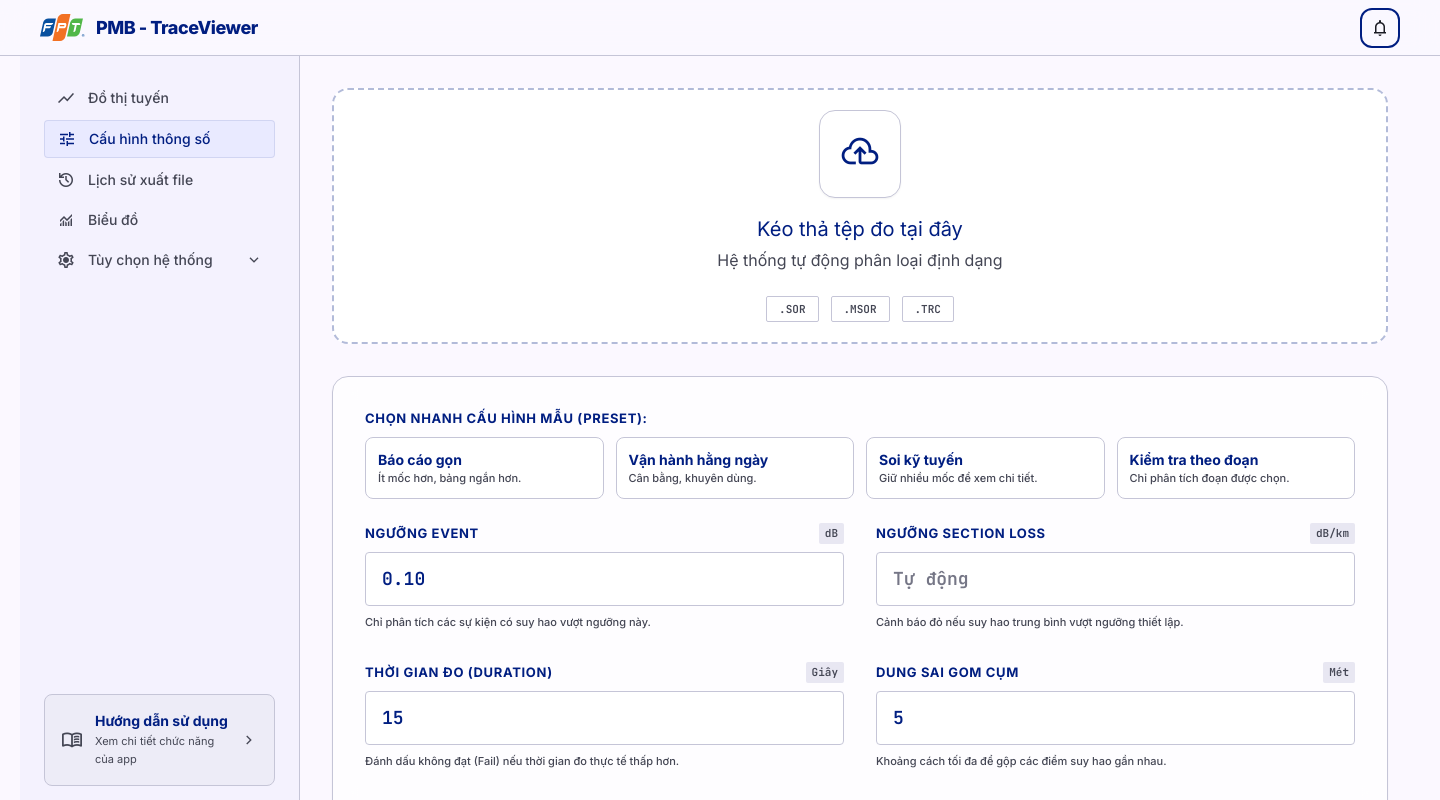
moves parameter modes into system options and keeps basic fields in advanced mode
Expected: the button "Thông số cơ bản" is not shown
Click the button "Tùy chọn hệ thống" at coordinates (160, 260), box top-left (44, 242), bottom-right (275, 278)
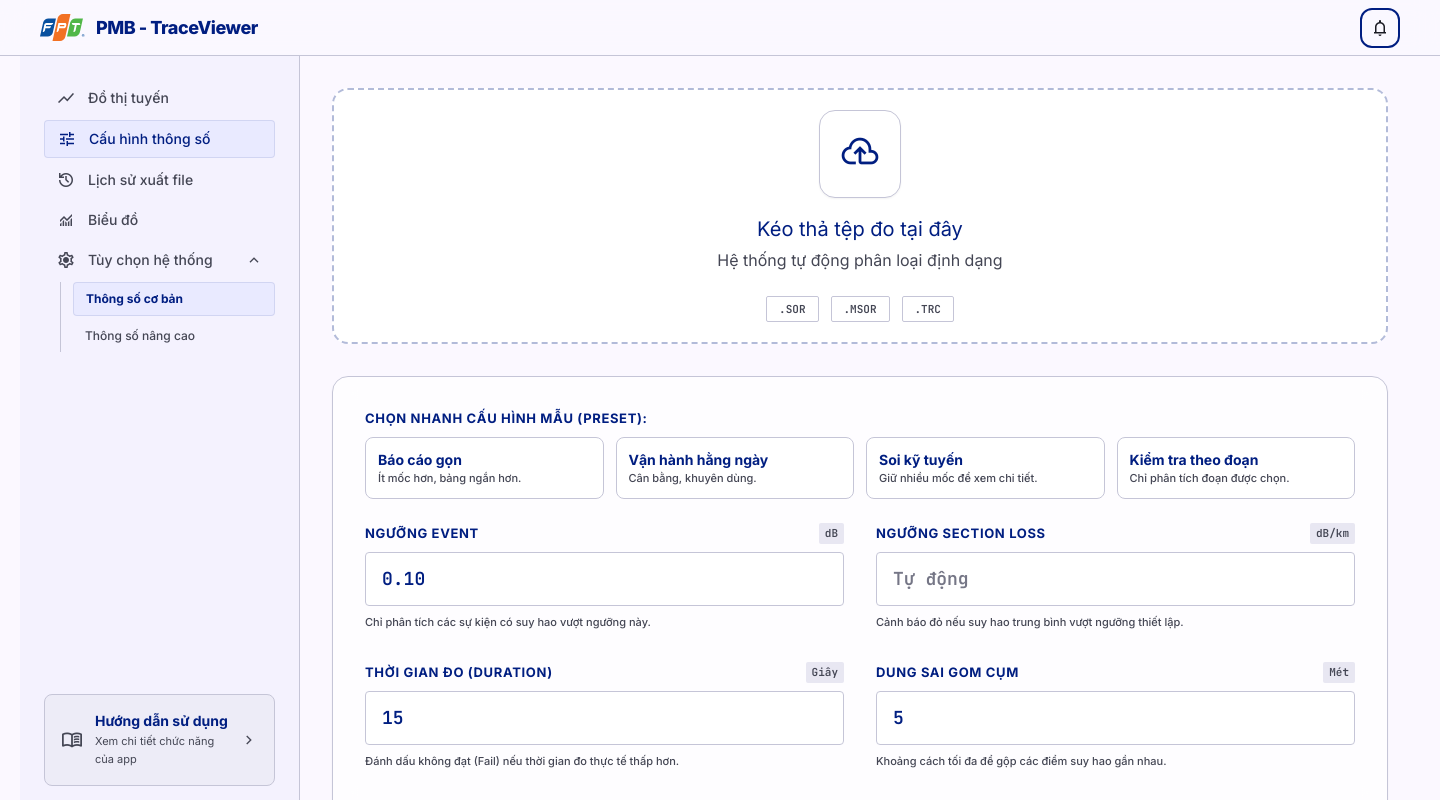
Click the button "Thông số nâng cao" at coordinates (174, 336), box top-left (73, 320), bottom-right (275, 352)
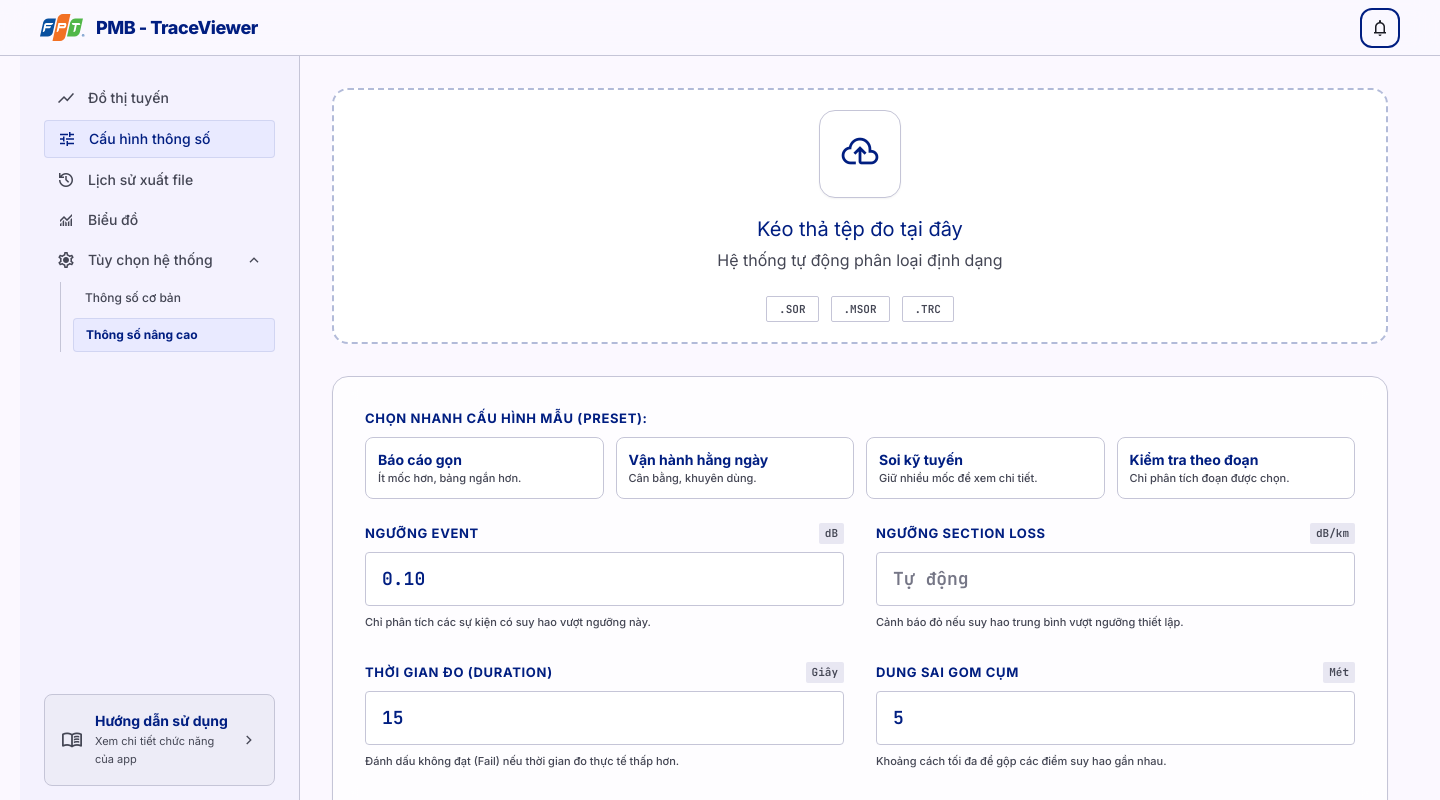
Expected: the text "Ngưỡng Event" is shown, top-left (365, 524), bottom-right (479, 544)
Expected: the text "Ngưỡng Section Loss" is shown, top-left (876, 524), bottom-right (1046, 544)
Click the button "Kiểm tra theo đoạn Chỉ phân tích đoạn được chọn." at coordinates (1236, 468), box top-left (1116, 436), bottom-right (1355, 499)
(page scrolled)
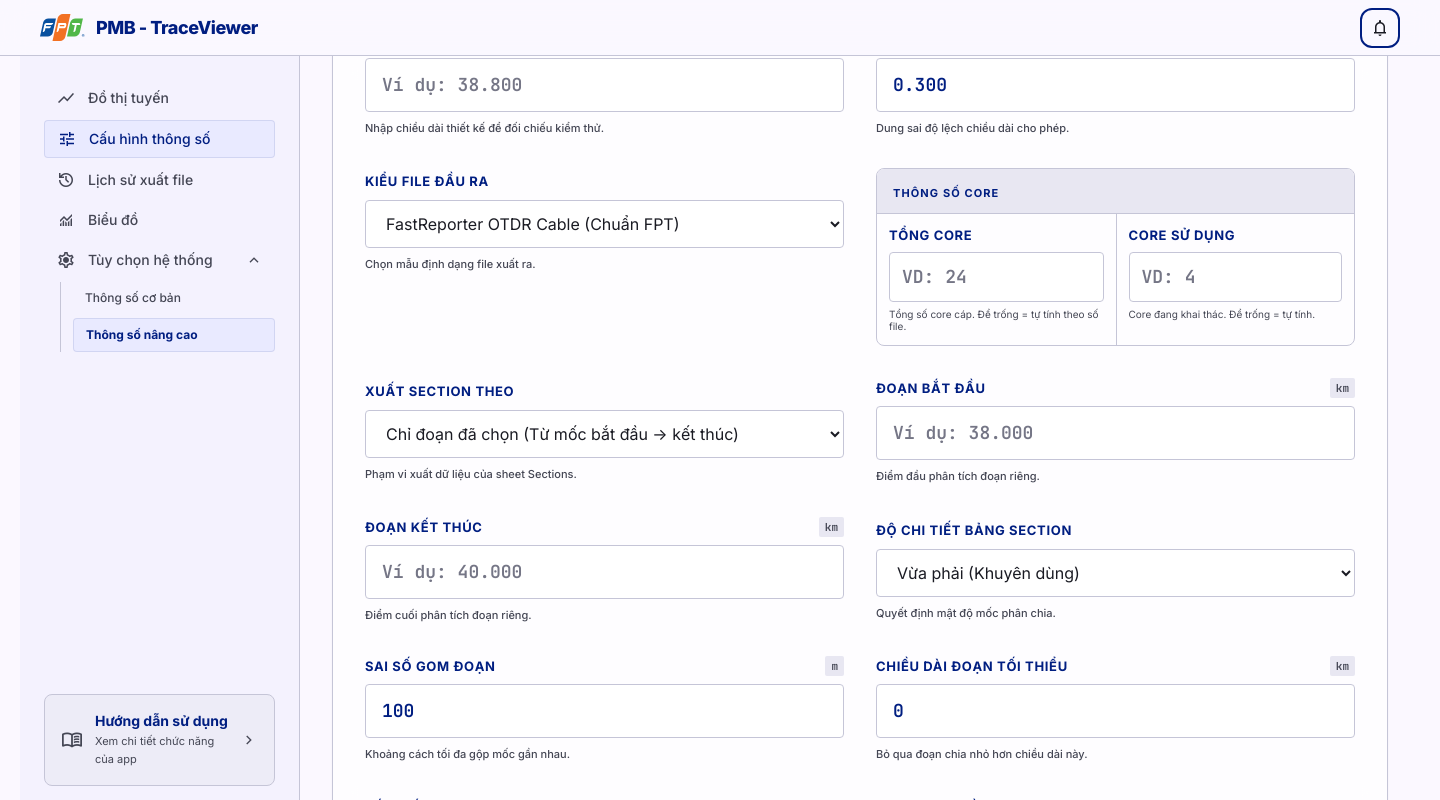
Expected: the dropdown below "Xuất section theo" shows "Chỉ đoạn đã chọn (Từ mốc bắt đầu -> kết thúc)", top-left (365, 410), bottom-right (844, 458)
Type "8.5" into the number field with placeholder "Ví dụ: 38.000" at coordinates (1116, 433), box top-left (876, 406), bottom-right (1355, 460)
Type "9.5" into the number field with placeholder "Ví dụ: 40.000" at coordinates (604, 572), box top-left (365, 545), bottom-right (844, 599)
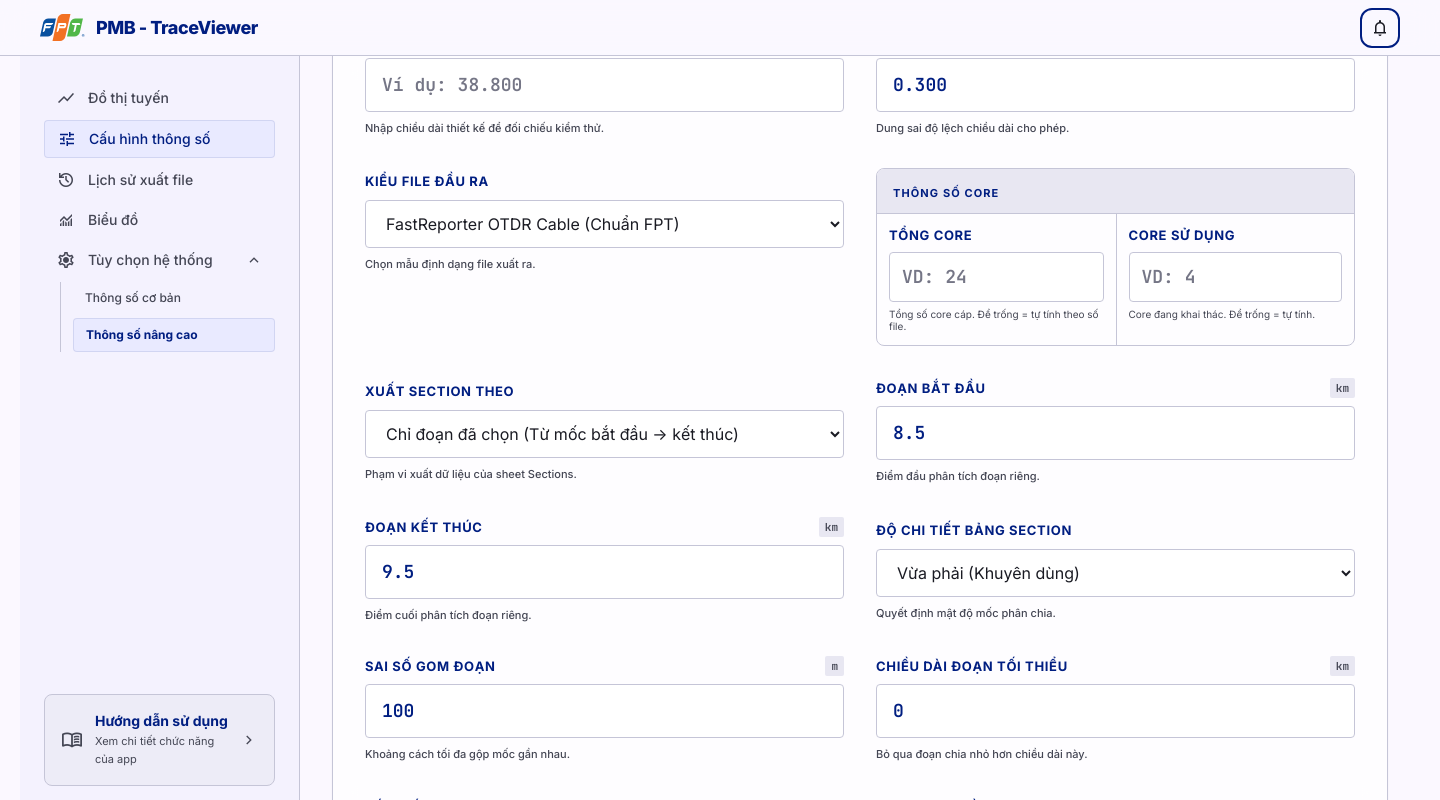
Click the button "Thông số cơ bản" at coordinates (174, 298), box top-left (73, 282), bottom-right (275, 314)
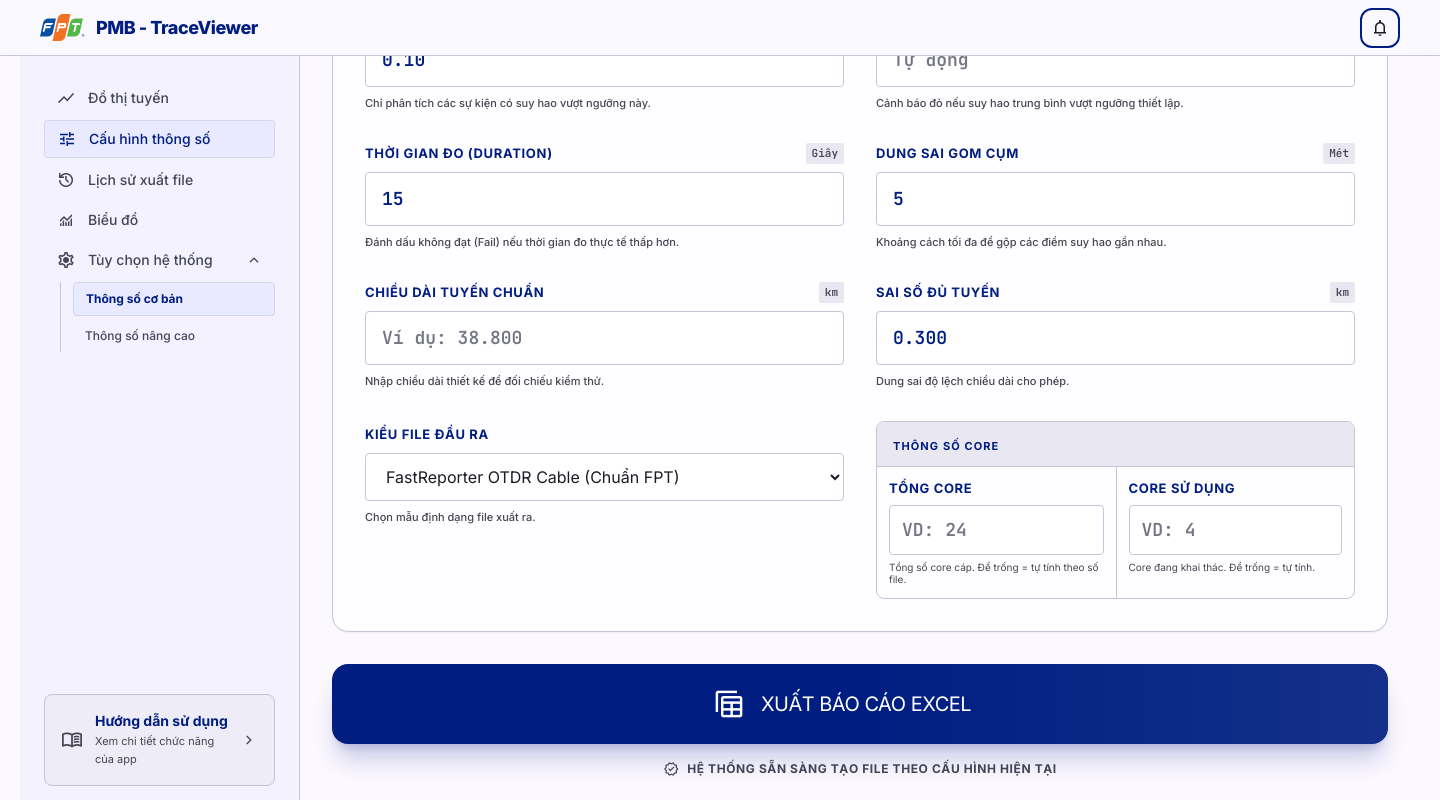
Click the button "Thông số nâng cao" at coordinates (174, 336), box top-left (73, 320), bottom-right (275, 352)
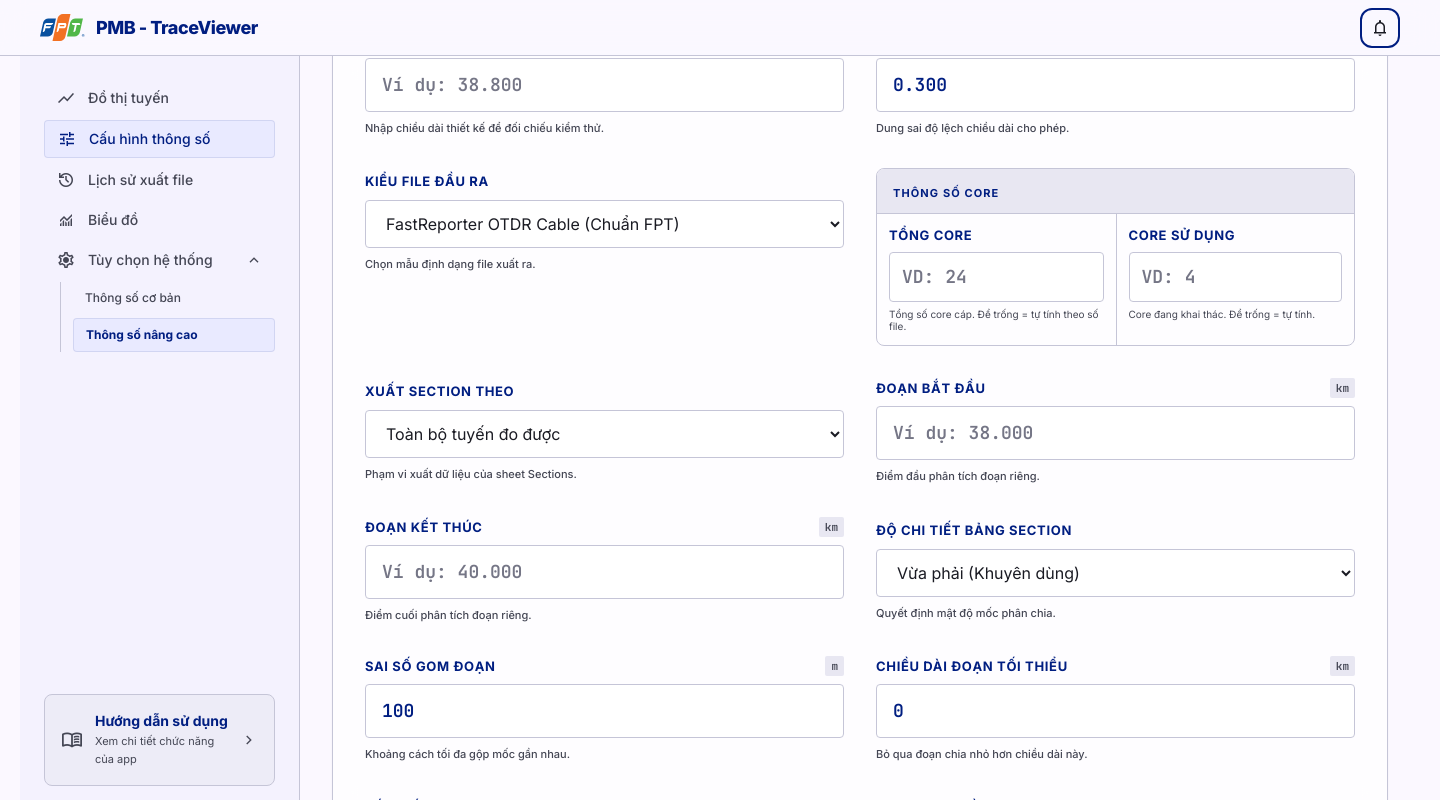
Expected: the number field with placeholder "Ví dụ: 40.000" is not empty, top-left (365, 545), bottom-right (844, 599)
Expected: the dropdown below "Xuất section theo" shows "Toàn bộ tuyến đo được", top-left (365, 410), bottom-right (844, 458)
Expected: the number field with placeholder "Ví dụ: 38.000" is not empty, top-left (876, 406), bottom-right (1355, 460)
